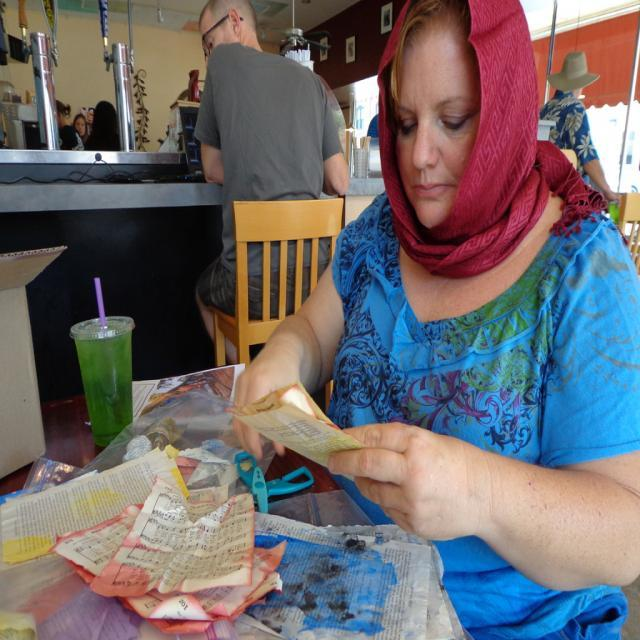Juice: (72, 332, 134, 457)
